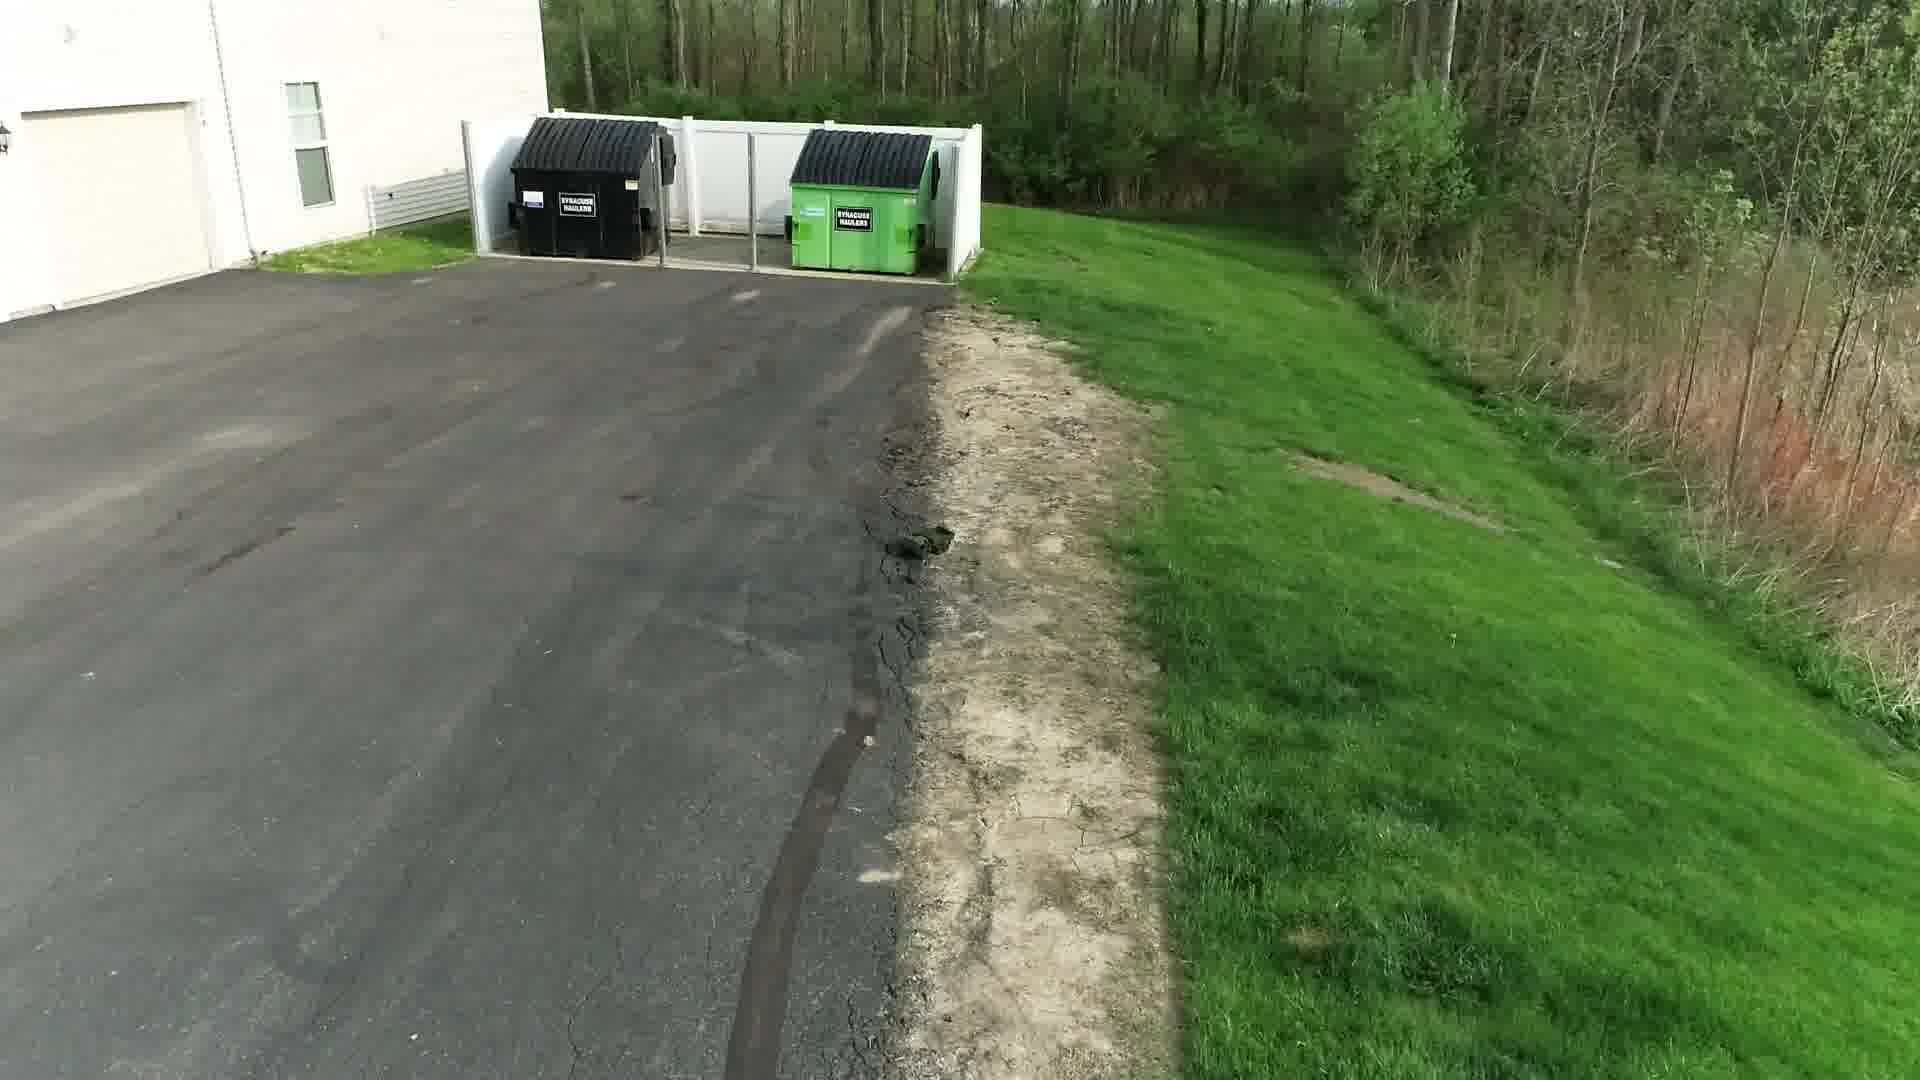transporter9: (894, 524, 957, 559)
